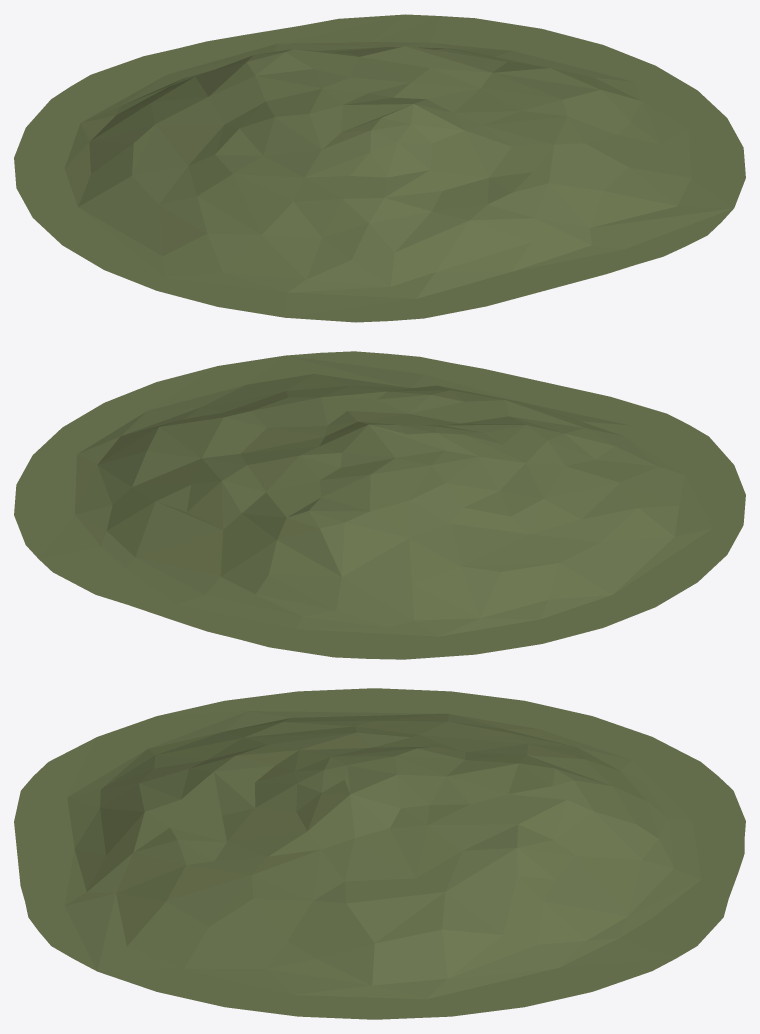
The model's file is SM_Envr_Nature_Terrain_Ground_04.fbx.
3 renders of one model, top to bottom at view 1: azimuth 30°, elevation 25°; view 2: azimuth 150°, elevation 25°; view 3: azimuth 270°, elevation 25°, orthographic. The views are drawn at different scales.
Parts seen in each view (by area): view 1: SM_Envr_Nature_Terrain_Ground_04; view 2: SM_Envr_Nature_Terrain_Ground_04; view 3: SM_Envr_Nature_Terrain_Ground_04.
Part boxes in pixels (x1,y1,x2,y2): SM_Envr_Nature_Terrain_Ground_04: (14, 14, 745, 322); SM_Envr_Nature_Terrain_Ground_04: (14, 351, 745, 659); SM_Envr_Nature_Terrain_Ground_04: (14, 688, 745, 1019).
Size of the model in its own units: 650 by 65.49 by 606.
